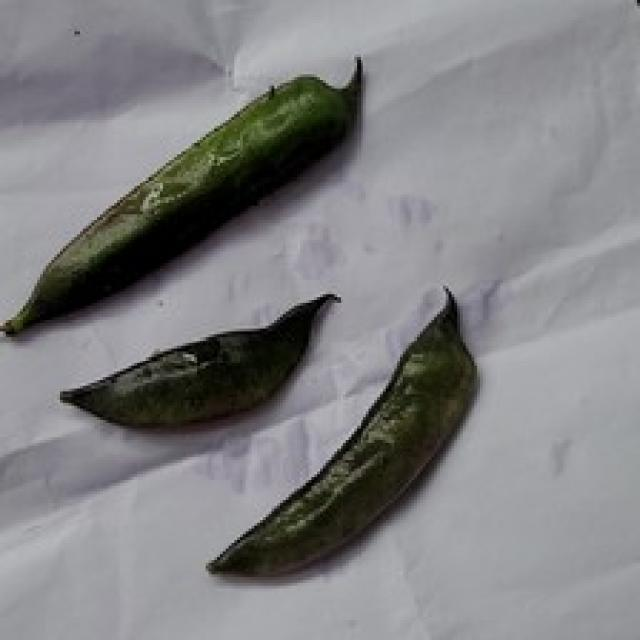Bean: (0, 52, 363, 337), (203, 283, 477, 577), (57, 288, 340, 428)
